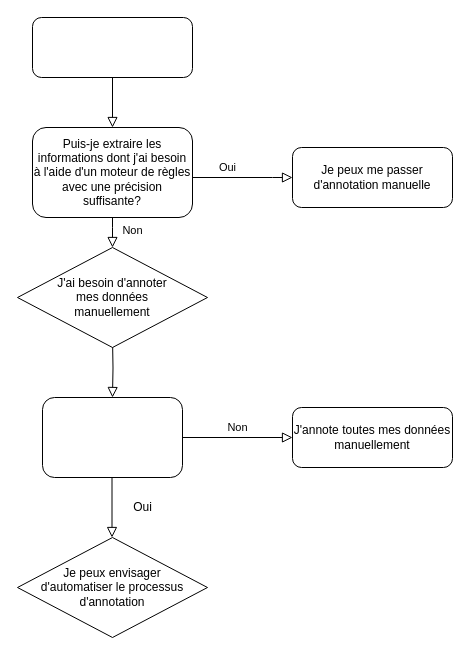
The diagram is 470 pixels wide and 655 high, and some of its shapes have lost their labels. Each missing label, with the centre of its shape:
Ai-je "beaucoup" de données à annoter ou ai-je un flux continu de données ?: the point at 112,437
Je dois utiliser des données non structurées: the point at 112,47
